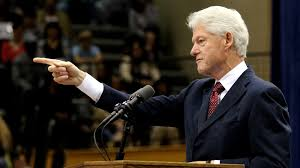hand: (23, 50, 88, 91)
